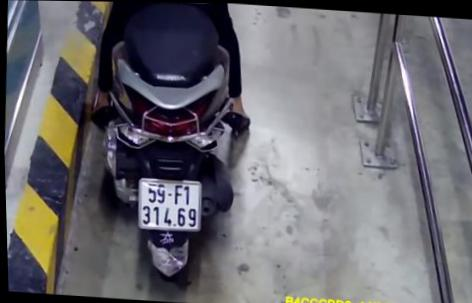LP: (134, 176, 201, 232)
